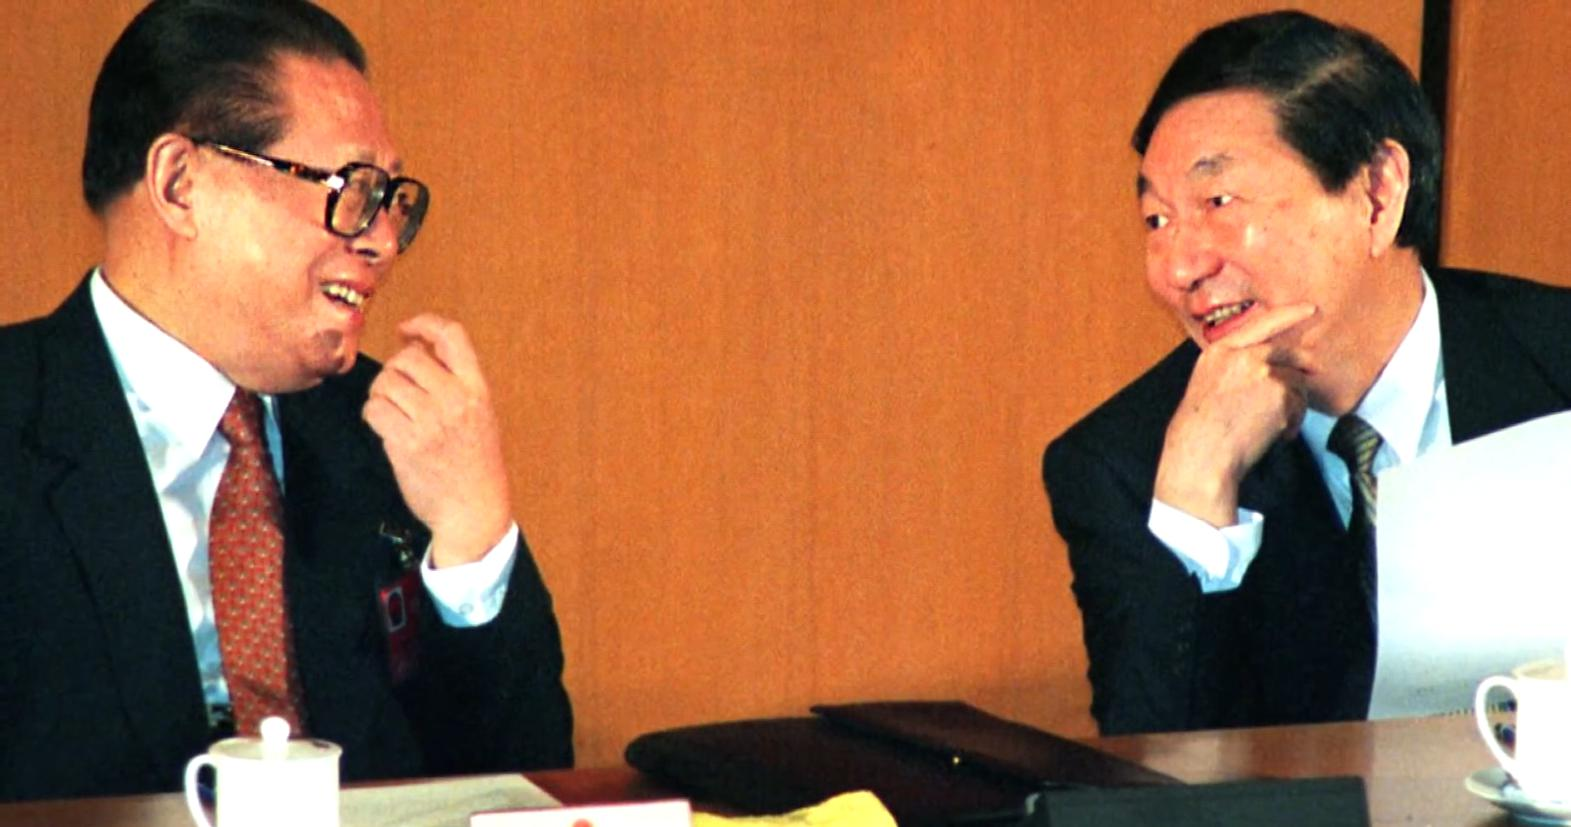without_mask: (227, 125, 377, 353), (1160, 163, 1302, 336)
